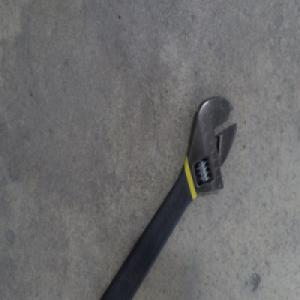AdjustableWrench: (101, 95, 239, 299)
